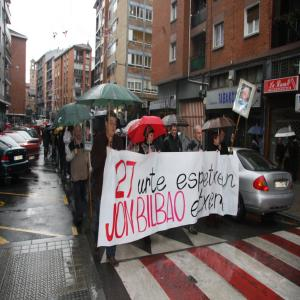Vehicle-registration-plate: (277, 183, 288, 190)
